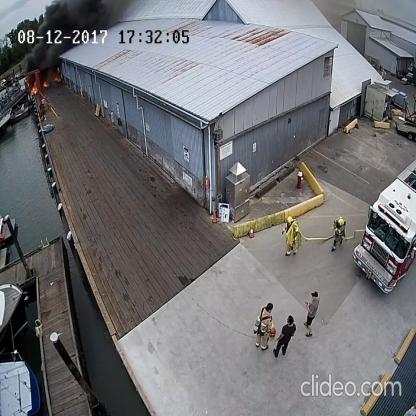fire: (23, 77, 39, 98), (53, 67, 62, 84), (42, 79, 50, 89)
